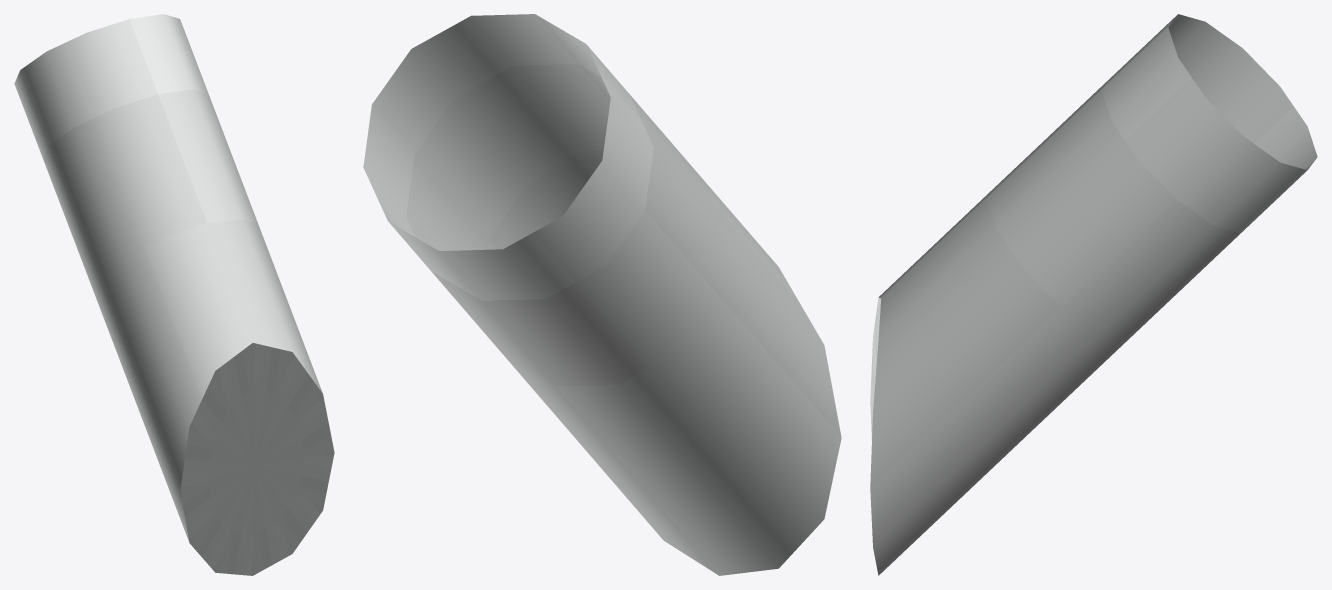
The model's file is luminairearm_truss8ft_c1.obj.
The picture shows the model from 3 angles, left to right: view 1: azimuth 30°, elevation 25°; view 2: azimuth 150°, elevation 25°; view 3: azimuth 270°, elevation 25°; orthographic projection. The views are drawn at different scales.
Visible parts, largest first — view 1: luminairearm_truss8ft_c1; view 2: luminairearm_truss8ft_c1; view 3: luminairearm_truss8ft_c1.
Boxes of the visible parts, bbox=[...] form: luminairearm_truss8ft_c1: bbox=[14, 14, 334, 575]; luminairearm_truss8ft_c1: bbox=[363, 14, 841, 575]; luminairearm_truss8ft_c1: bbox=[870, 14, 1317, 575].
Size of the model in its own units: 0.1562 by 0.4517 by 0.3376.
